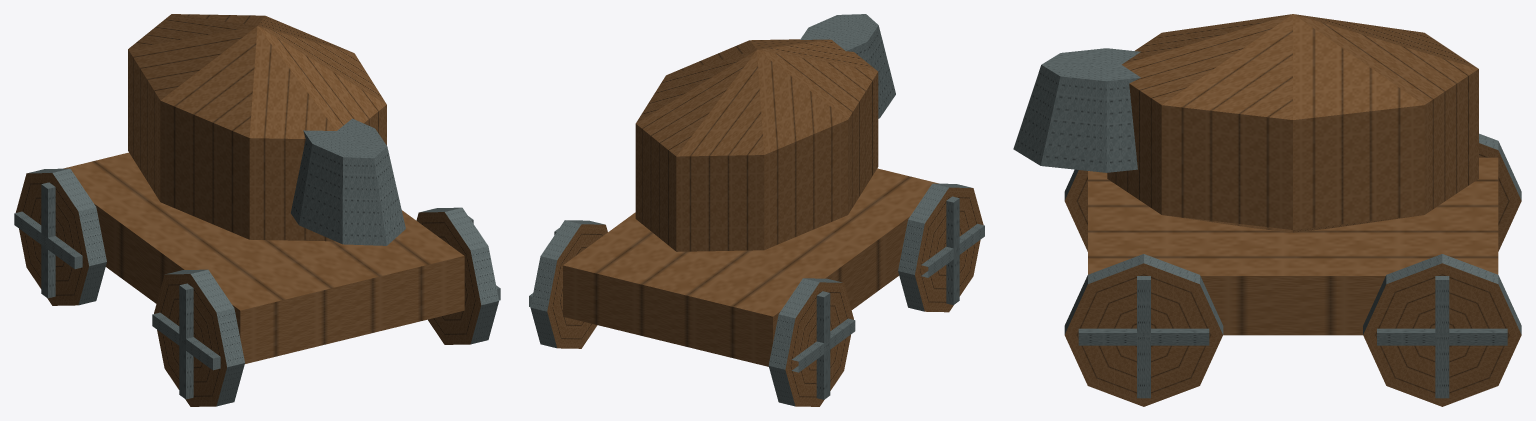
File: unit-WOODEN_BEAST-lod1.glb
3 views of the same model, side by side, from view 1: azimuth 30°, elevation 25°; view 2: azimuth 150°, elevation 25°; view 3: azimuth 270°, elevation 25° (orthographic). The views are drawn at different scales.
Bounding box in the file's own units: 0.385 × 0.38 × 0.545.
Materials: 1 (1 with a texture image).
